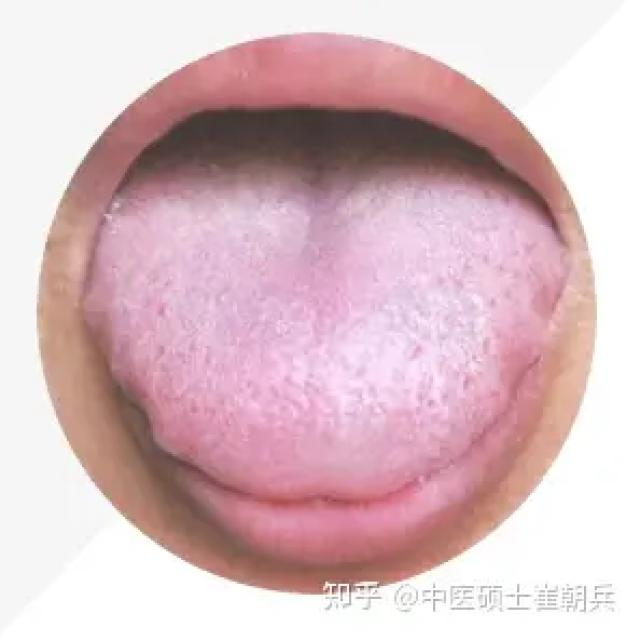tongue: (83, 165, 564, 508)
